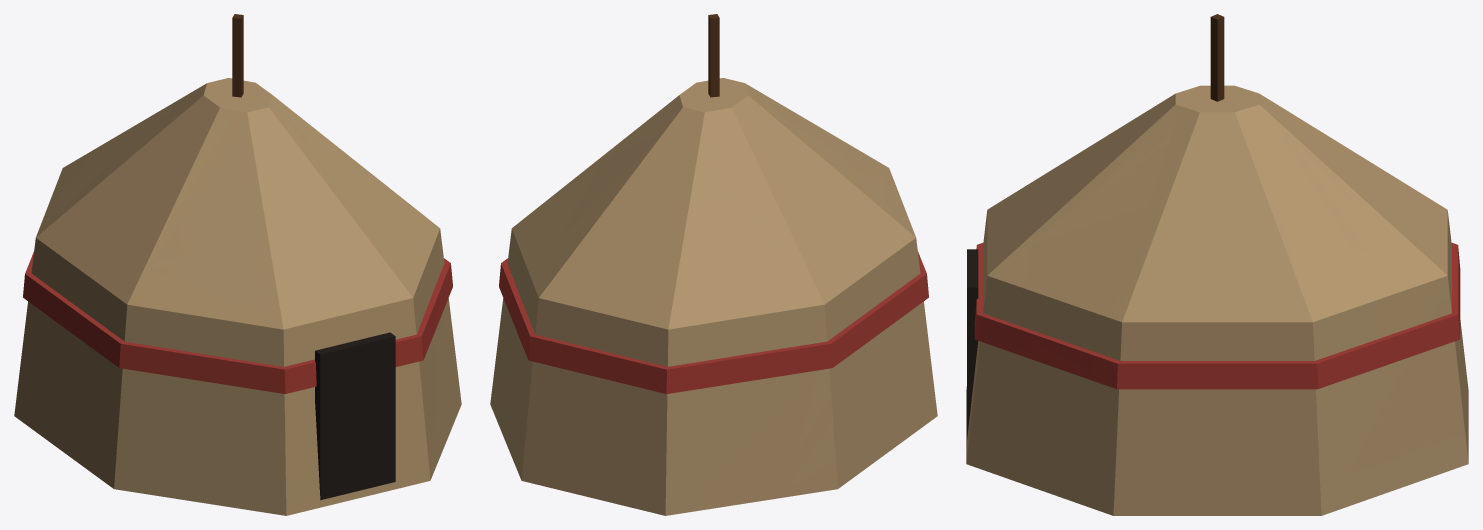
The model's file is centaur_house_c_broken.glb.
3 views of the same model, side by side, from view 1: azimuth 30°, elevation 25°; view 2: azimuth 150°, elevation 25°; view 3: azimuth 270°, elevation 25° (orthographic). The views are drawn at different scales.
Visible parts, largest first — view 1: centaur_house_c_piece2, centaur_house_c_piece7, centaur_house_c_piece10, centaur_house_c_piece8, centaur_house_c_piece0, centaur_house_c_piece9, centaur_house_c_piece3, centaur_house_c_piece6, centaur_house_c_piece4, centaur_house_c_piece1; view 2: centaur_house_c_piece6, centaur_house_c_piece2, centaur_house_c_piece5, centaur_house_c_piece8, centaur_house_c_piece9, centaur_house_c_piece1, centaur_house_c_piece10, centaur_house_c_piece3, centaur_house_c_piece7; view 3: centaur_house_c_piece4, centaur_house_c_piece5, centaur_house_c_piece7, centaur_house_c_piece0, centaur_house_c_piece6, centaur_house_c_piece9, centaur_house_c_piece10, centaur_house_c_piece1, centaur_house_c_piece3.
Boxes of the visible parts, left/top/right/bottom form: centaur_house_c_piece2: left=23, top=266, right=420, bottom=515; centaur_house_c_piece7: left=141, top=230, right=448, bottom=482; centaur_house_c_piece10: left=97, top=105, right=385, bottom=268; centaur_house_c_piece8: left=24, top=144, right=143, bottom=280; centaur_house_c_piece0: left=348, top=165, right=447, bottom=412; centaur_house_c_piece9: left=108, top=14, right=410, bottom=205; centaur_house_c_piece3: left=129, top=107, right=432, bottom=227; centaur_house_c_piece6: left=22, top=94, right=187, bottom=349; centaur_house_c_piece4: left=408, top=203, right=461, bottom=435; centaur_house_c_piece1: left=14, top=327, right=38, bottom=433; centaur_house_c_piece6: left=533, top=121, right=837, bottom=515; centaur_house_c_piece2: left=829, top=165, right=937, bottom=471; centaur_house_c_piece5: left=490, top=155, right=606, bottom=501; centaur_house_c_piece8: left=758, top=180, right=870, bottom=354; centaur_house_c_piece9: left=662, top=14, right=758, bottom=230; centaur_house_c_piece1: left=561, top=109, right=861, bottom=497; centaur_house_c_piece10: left=719, top=78, right=884, bottom=254; centaur_house_c_piece3: left=738, top=86, right=840, bottom=213; centaur_house_c_piece7: left=823, top=129, right=885, bottom=213; centaur_house_c_piece4: left=1051, top=176, right=1312, bottom=515; centaur_house_c_piece5: left=1220, top=193, right=1468, bottom=515; centaur_house_c_piece7: left=966, top=157, right=1072, bottom=493; centaur_house_c_piece0: left=1024, top=206, right=1148, bottom=474; centaur_house_c_piece6: left=1271, top=108, right=1468, bottom=419; centaur_house_c_piece9: left=1134, top=14, right=1283, bottom=284; centaur_house_c_piece10: left=1031, top=89, right=1188, bottom=243; centaur_house_c_piece1: left=1213, top=110, right=1368, bottom=253; centaur_house_c_piece3: left=1116, top=85, right=1200, bottom=312.
Bounding box in the file's own units: 1.85 × 2 × 2.22.
